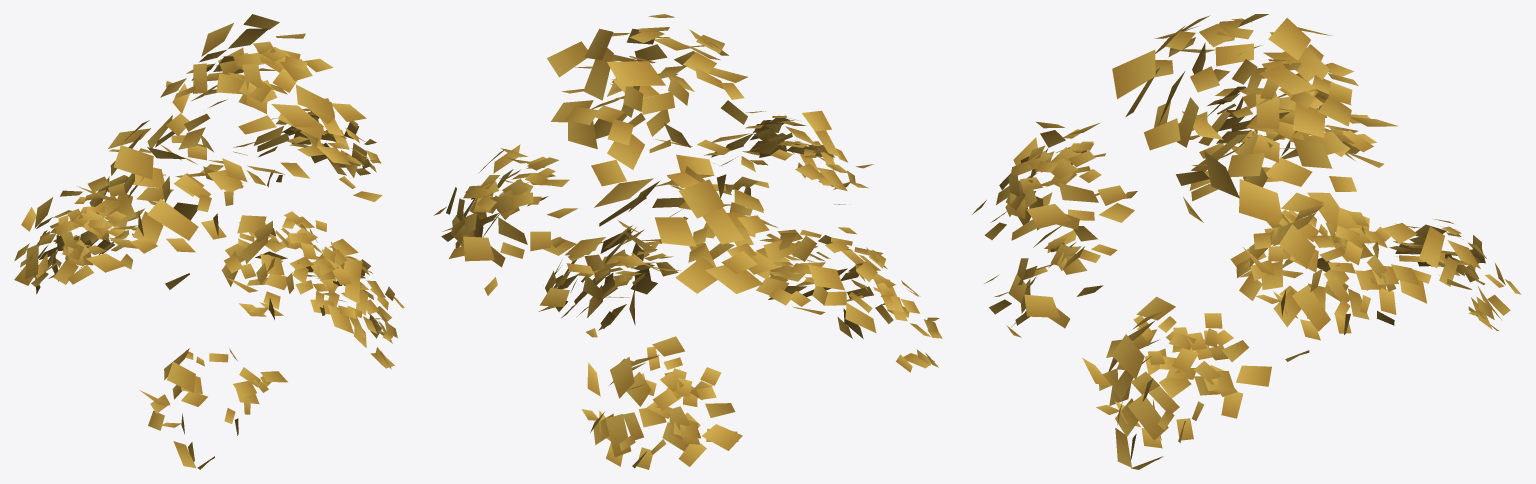
Rendered from environment_tree_foliage.fbx.
The picture shows the model from 3 angles, left to right: view 1: azimuth 30°, elevation 25°; view 2: azimuth 150°, elevation 25°; view 3: azimuth 270°, elevation 25°; orthographic projection. The views are drawn at different scales.
Parts seen in each view (by area): view 1: Foliage7; view 2: Foliage7; view 3: Foliage7.
Boxes of the visible parts, bbox=[...] form: Foliage7: bbox=[14, 14, 404, 469]; Foliage7: bbox=[433, 14, 942, 469]; Foliage7: bbox=[972, 14, 1521, 469].
Size of the model in its own units: 1440 by 1230 by 1474.
